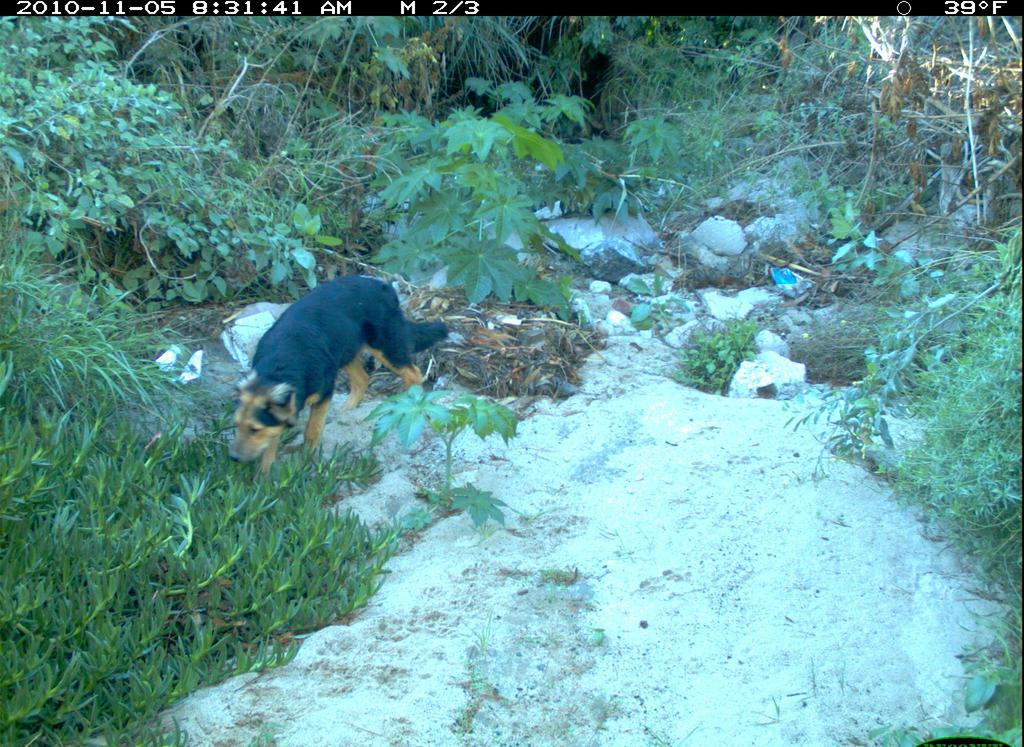dog: (219, 272, 455, 474)
